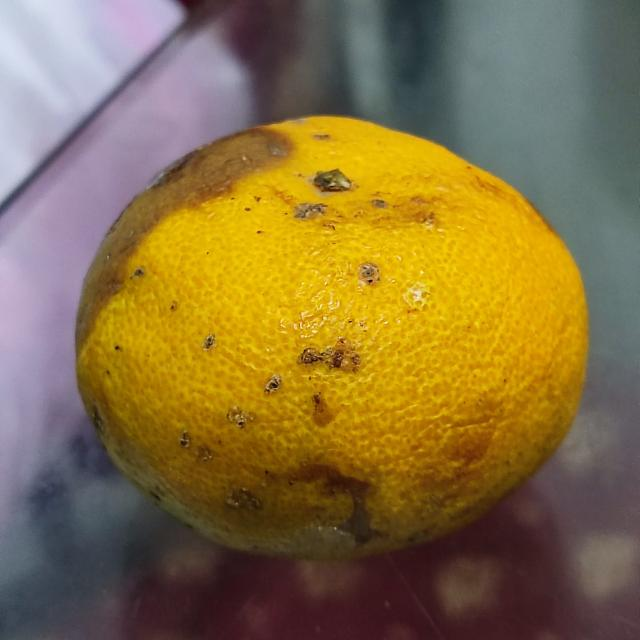orange: (66, 110, 588, 570)
